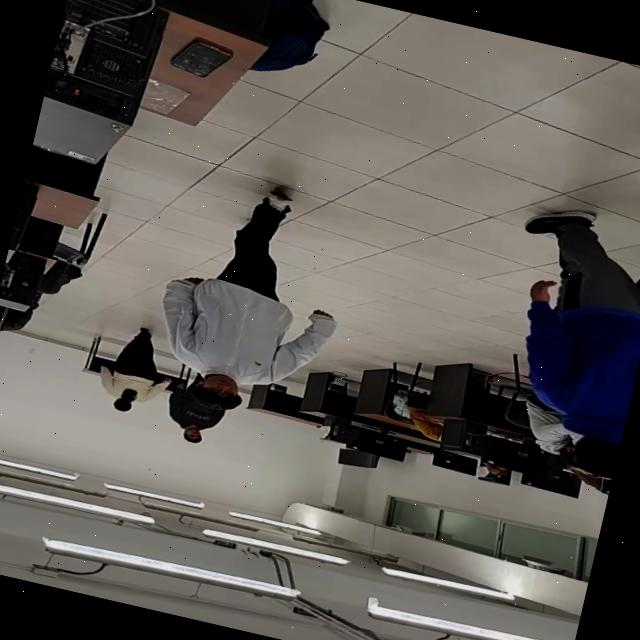Persona: (137, 168, 355, 426), (505, 199, 640, 476), (98, 331, 169, 418), (167, 391, 240, 456)
